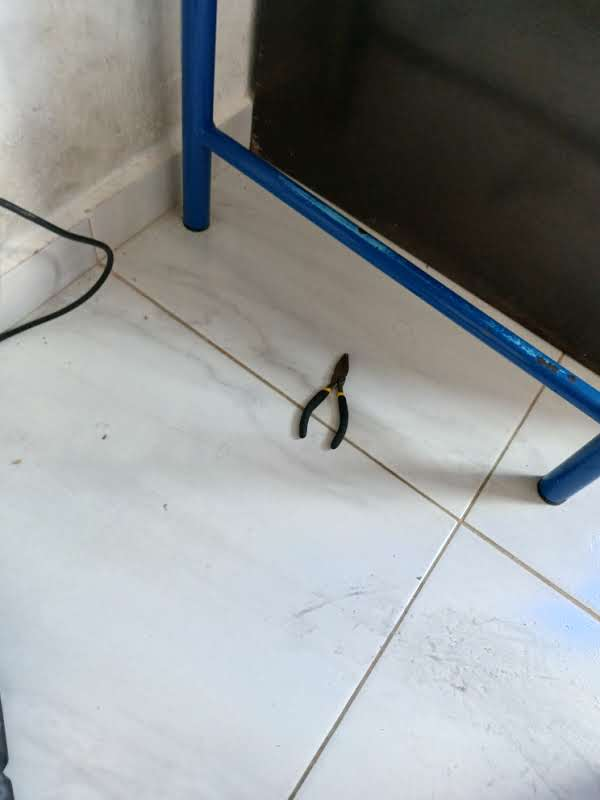Pinzas: (299, 352, 349, 448)
